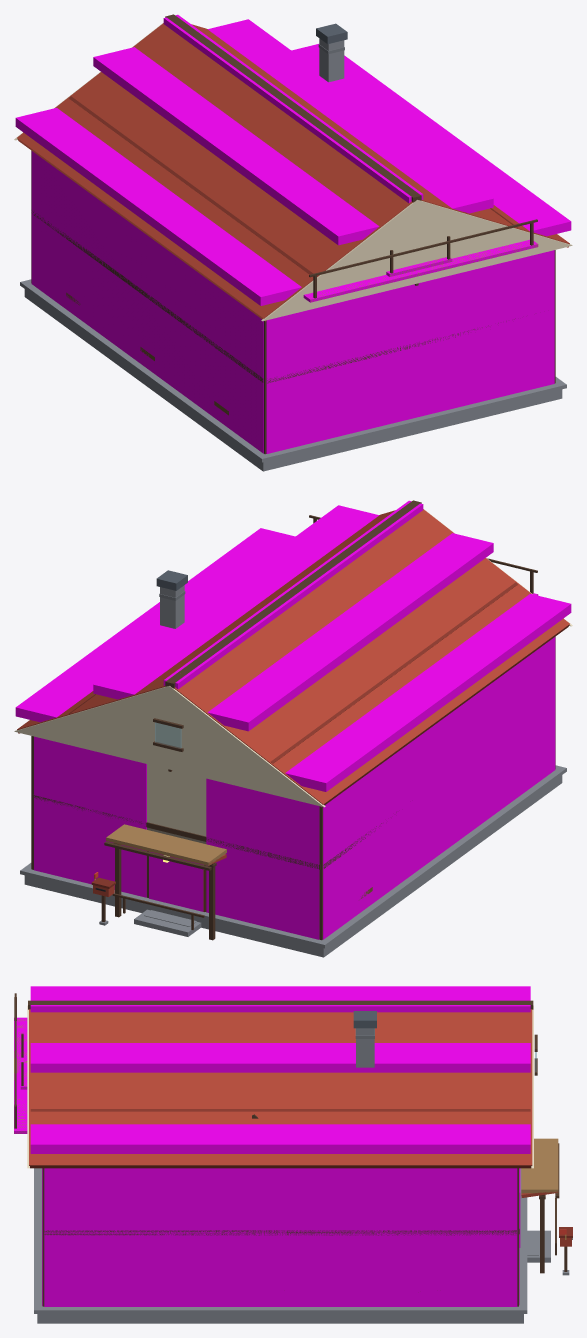
Rendered from house_t2.glb.
The picture shows the model from 3 angles, top to bottom: view 1: azimuth 30°, elevation 25°; view 2: azimuth 150°, elevation 25°; view 3: azimuth 270°, elevation 25°; orthographic projection.
Parts seen in each view (by area): view 1: Col_wall_B, M_b8, Col_wall_L, Col_roof_-1_1, Col_roof_-1_0, M_b2, M_b0, Col_roof_+1_0, Col_roof_+1_1, M_b3, Col_roof_ridge, Col_balcony (+2 smaller); view 2: M_b8, Col_wall_L, M_b2, Col_wall_FL, Col_wall_FR, Col_roof_-1_1, Col_roof_-1_0, M_b0, Col_roof_+1_0, Col_roof_+1_1, M_b3, Col_roof_ridge (+3 smaller); view 3: Col_wall_R, M_b8, Col_roof_+1_1, Col_roof_+1_0, M_b0, Col_roof_-1_0, M_b3, Col_roof_ridge, M_b7, M_b10, Col_balcony, M_b2 (+1 smaller).
Part boxes in pixels (x1,y1,x2,y2): Col_wall_B: (266, 250, 554, 453); M_b8: (17, 23, 569, 321); Col_wall_L: (31, 151, 263, 453); Col_roof_-1_1: (15, 108, 301, 305); Col_roof_-1_0: (93, 47, 379, 245); M_b2: (14, 23, 572, 321); M_b0: (20, 38, 566, 471); Col_roof_+1_0: (207, 19, 493, 213); Col_roof_+1_1: (291, 44, 571, 236); M_b3: (31, 14, 555, 454); Col_roof_ridge: (163, 14, 423, 203); Col_balcony: (303, 239, 538, 302); M_b8: (17, 509, 569, 865); Col_wall_L: (323, 637, 555, 939); M_b2: (14, 509, 572, 836); Col_wall_FL: (206, 778, 319, 939); Col_wall_FR: (34, 736, 146, 897); Col_roof_-1_1: (285, 594, 571, 791); Col_roof_-1_0: (207, 533, 493, 731); M_b0: (20, 585, 566, 957); Col_roof_+1_0: (93, 505, 379, 699); Col_roof_+1_1: (15, 528, 295, 722); M_b3: (31, 500, 555, 940); Col_roof_ridge: (163, 500, 423, 689); Col_wall_R: (44, 1168, 517, 1306); M_b8: (29, 1009, 557, 1197); Col_roof_+1_1: (30, 1124, 530, 1153); Col_roof_+1_0: (30, 1043, 530, 1072); M_b0: (34, 1028, 550, 1323); Col_roof_-1_0: (30, 986, 530, 999); M_b3: (14, 993, 559, 1306); Col_roof_ridge: (30, 999, 530, 1012); M_b7: (14, 1019, 558, 1193); M_b10: (30, 1109, 530, 1111); Col_balcony: (14, 1017, 27, 1133); M_b2: (27, 1005, 533, 1168).
Bounding box in the file's own units: 10.9 × 8.98 × 16.66.
